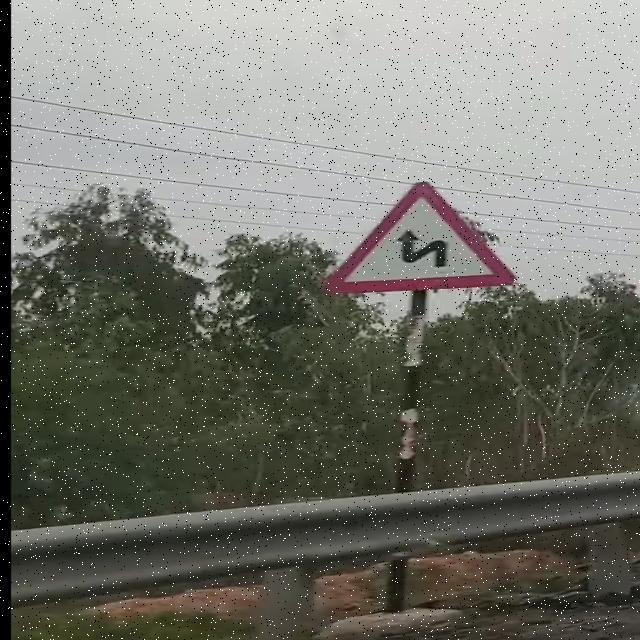Double curve first to left: (322, 179, 517, 289)
